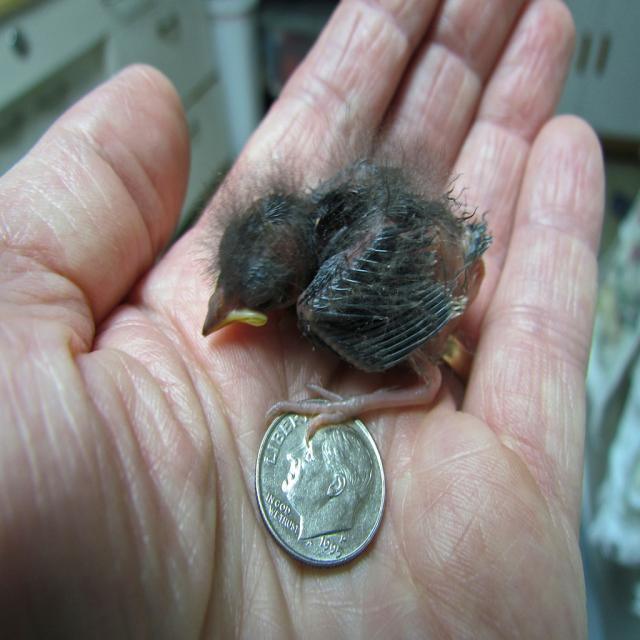Coin: (252, 397, 386, 566)
